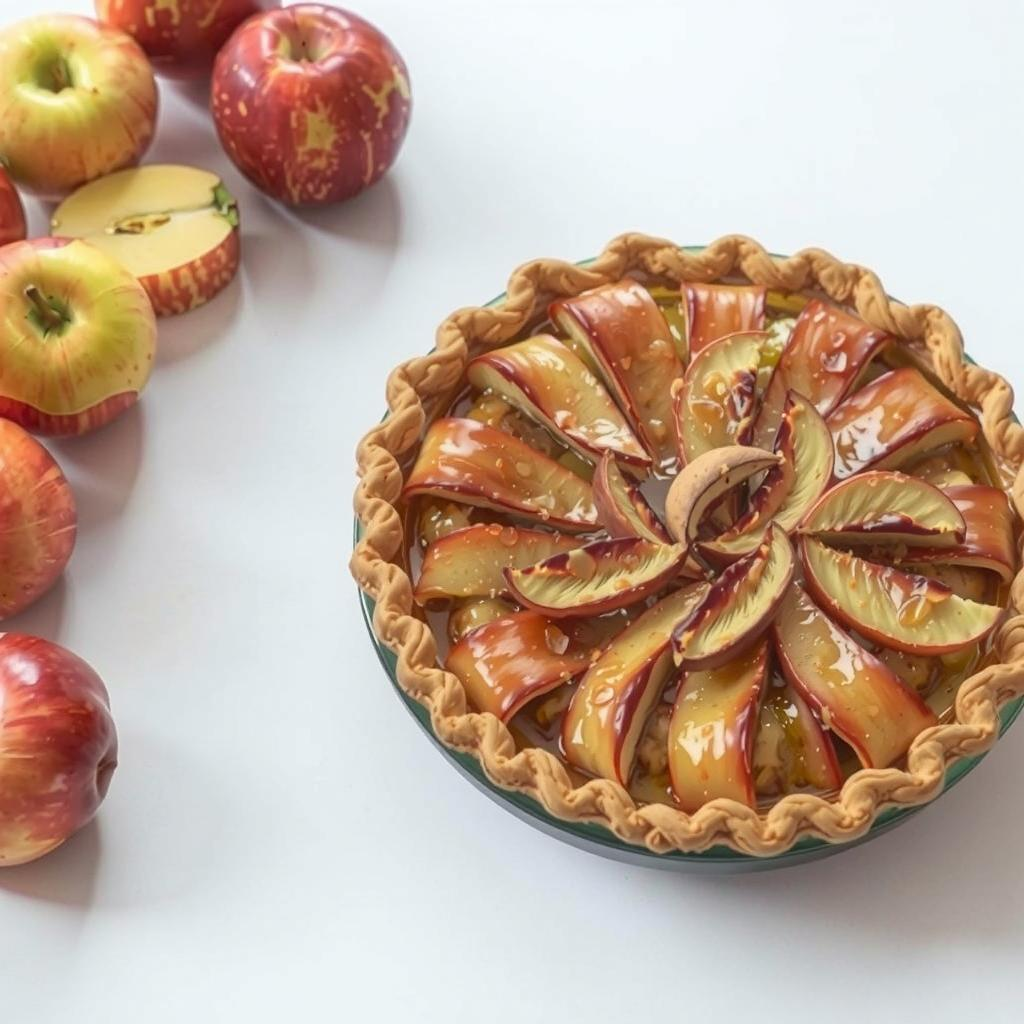pie: (334, 220, 1024, 866)
